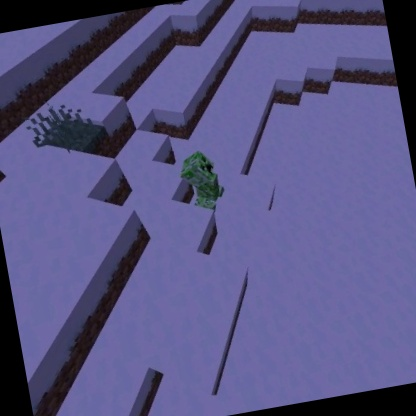creeper: (174, 145, 231, 217)
